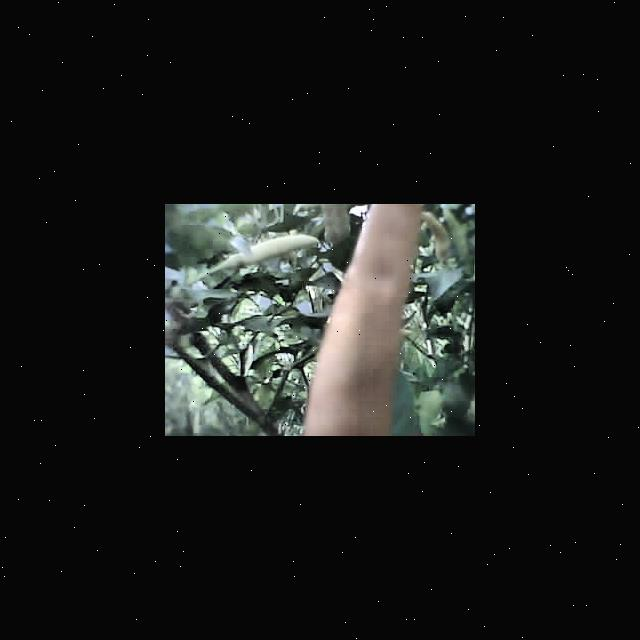Cabai: (310, 204, 408, 436)
